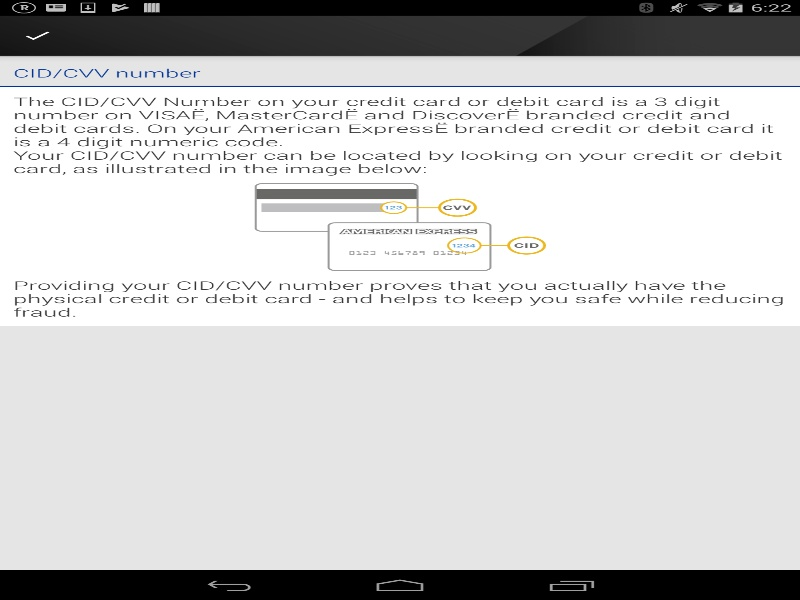Button: (0, 250, 800, 278), (13, 442, 786, 470), (13, 476, 786, 503), (741, 334, 800, 361)
Input: (6, 195, 793, 223), (6, 306, 793, 334), (6, 361, 793, 389), (6, 279, 793, 306), (6, 334, 740, 361)
